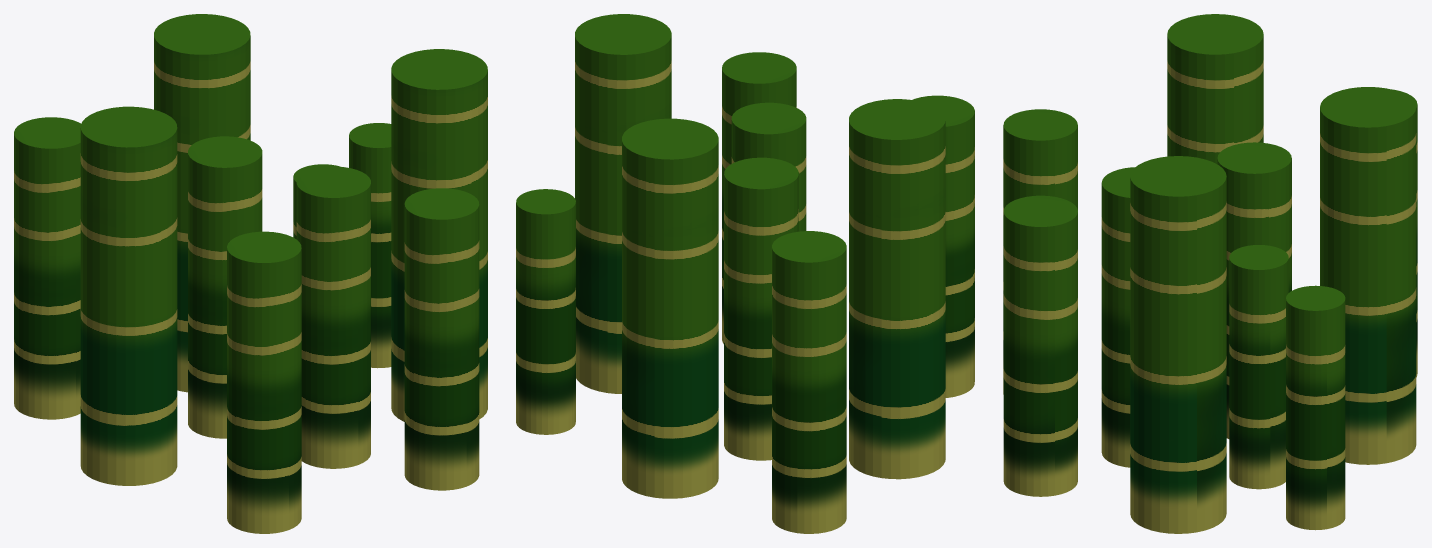
Rendered from bamboo.glb.
3 views of the same model, side by side, from view 1: azimuth 30°, elevation 25°; view 2: azimuth 150°, elevation 25°; view 3: azimuth 270°, elevation 25° (orthographic).
Parts seen in each view (by area): view 1: Plane; view 2: Plane; view 3: Plane.
Boxes of the visible parts, left/top/right/bottom form: Plane: left=14, top=14, right=487, bottom=533; Plane: left=516, top=14, right=974, bottom=533; Plane: left=1003, top=14, right=1417, bottom=533.
Bounding box in the file's own units: 1.16 × 1 × 1.11.
Materials: 1 (1 with a texture image).
